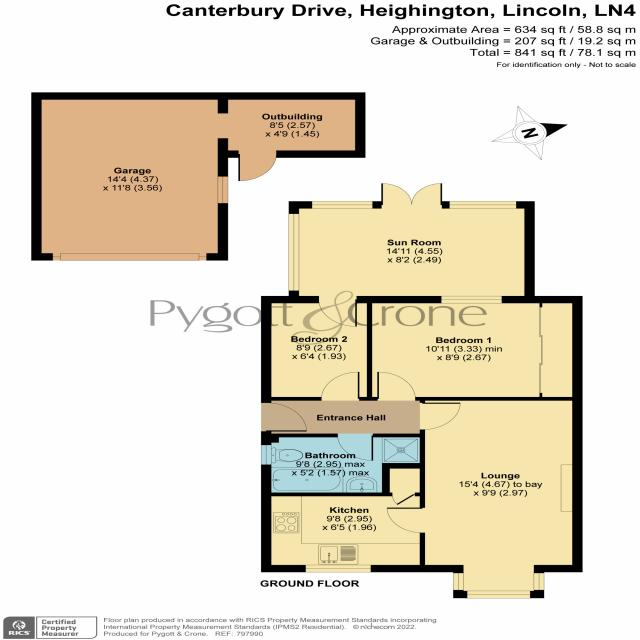DOOR: (261, 402, 308, 432), (419, 401, 462, 431), (317, 296, 358, 327), (320, 371, 360, 401), (376, 371, 416, 401), (386, 506, 425, 534), (336, 433, 374, 461)
DOUBLE DOOR: (379, 179, 445, 208)
ROOM: (386, 397, 583, 599), (367, 296, 583, 401), (261, 463, 425, 572), (261, 296, 373, 401)
WINDOW: (305, 564, 372, 573), (466, 590, 531, 599), (440, 295, 503, 304), (260, 444, 272, 466), (533, 573, 545, 591), (453, 573, 464, 591)
